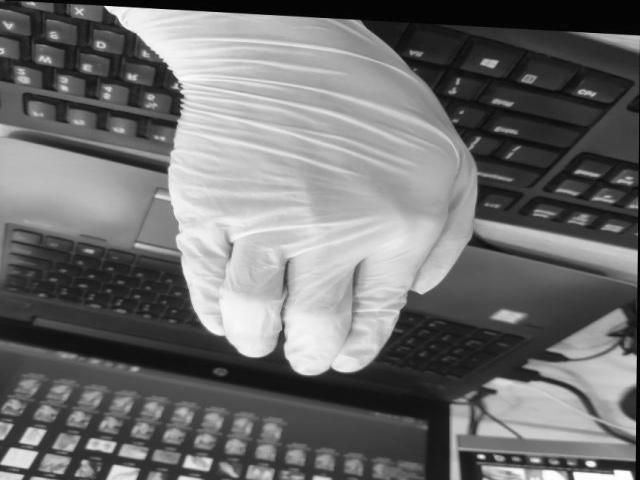gloved: (166, 8, 472, 376)
